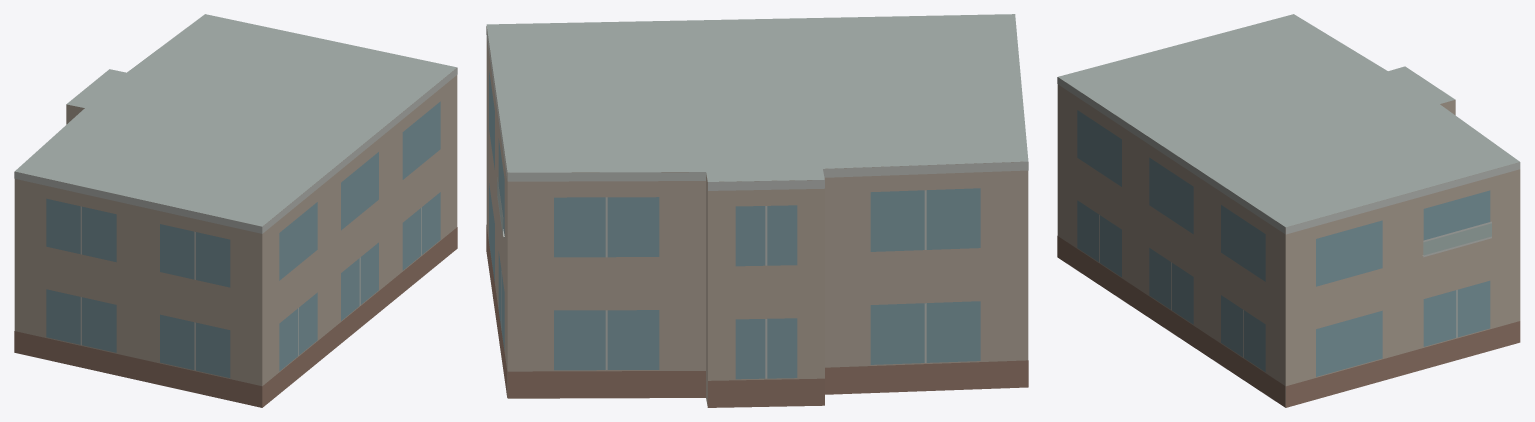
Rendered from survey-upis-32624057.glb.
3 views of the same model, side by side, from view 1: azimuth 30°, elevation 25°; view 2: azimuth 150°, elevation 25°; view 3: azimuth 270°, elevation 25° (orthographic). The views are drawn at different scales.
Parts seen in each view (by area): view 1: survey-upis-32624057.tmp; view 2: survey-upis-32624057.tmp; view 3: survey-upis-32624057.tmp.
Part boxes in pixels (x1,y1,x2,y2): survey-upis-32624057.tmp: (14,14,457,407); survey-upis-32624057.tmp: (486,14,1028,407); survey-upis-32624057.tmp: (1057,14,1520,407).
Size of the model in its own units: 15.47 by 6.1 by 14.18.
